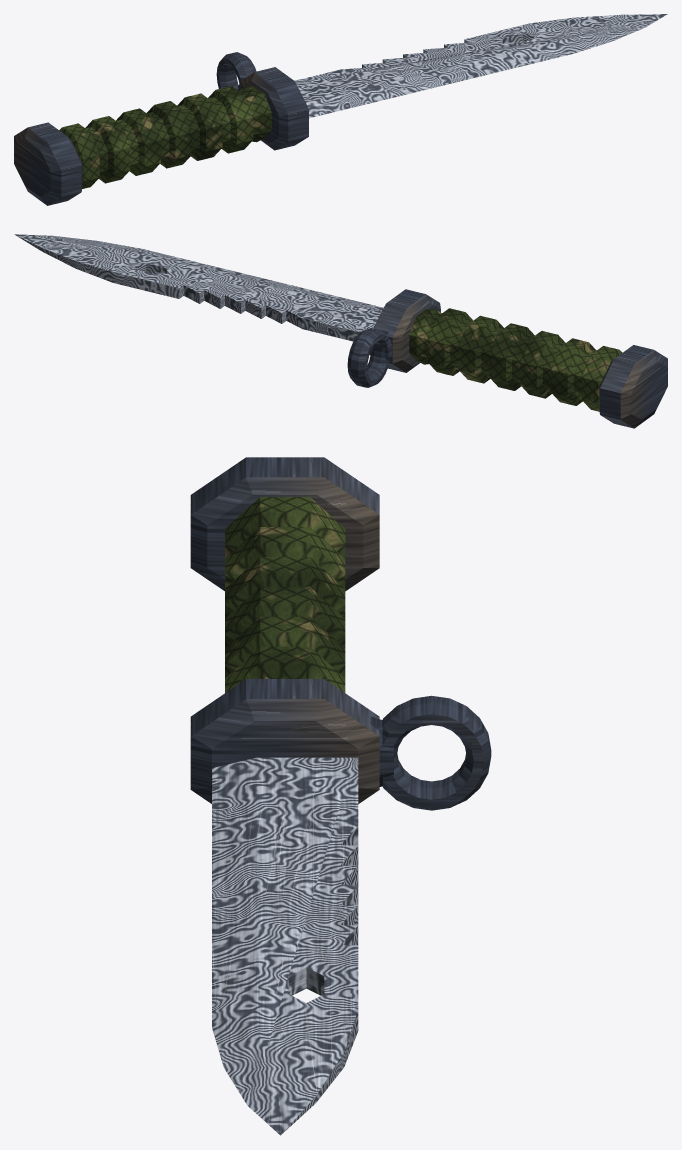
File: m9_bayonet_lowpoly_v4.glb
The picture shows the model from 3 angles, top to bottom: view 1: azimuth 30°, elevation 25°; view 2: azimuth 150°, elevation 25°; view 3: azimuth 270°, elevation 25°; orthographic projection. The views are drawn at different scales.
Parts seen in each view (by area): view 1: Blade, Grip, PommelGuard, Guard, MuzzleRing; view 2: Blade, Grip, PommelGuard, Guard, MuzzleRing; view 3: Blade, Grip, Guard, PommelGuard, MuzzleRing.
Part boxes in pixels (x1,y1,x2,y2): Blade: [294, 14, 667, 118]; Grip: [59, 86, 271, 188]; PommelGuard: [14, 122, 82, 205]; Guard: [240, 67, 308, 150]; MuzzleRing: [216, 52, 256, 89]; Blade: [14, 234, 383, 341]; Grip: [409, 308, 622, 411]; PommelGuard: [599, 345, 667, 428]; Guard: [373, 289, 440, 372]; MuzzleRing: [347, 328, 390, 387]; Blade: [212, 757, 358, 1135]; Grip: [225, 497, 345, 692]; Guard: [190, 679, 379, 803]; PommelGuard: [190, 457, 379, 591]; MuzzleRing: [382, 695, 491, 810].
Size of the model in its own units: 0.31 by 0.03 by 0.0636.
Materials: 2 (2 with a texture image).
